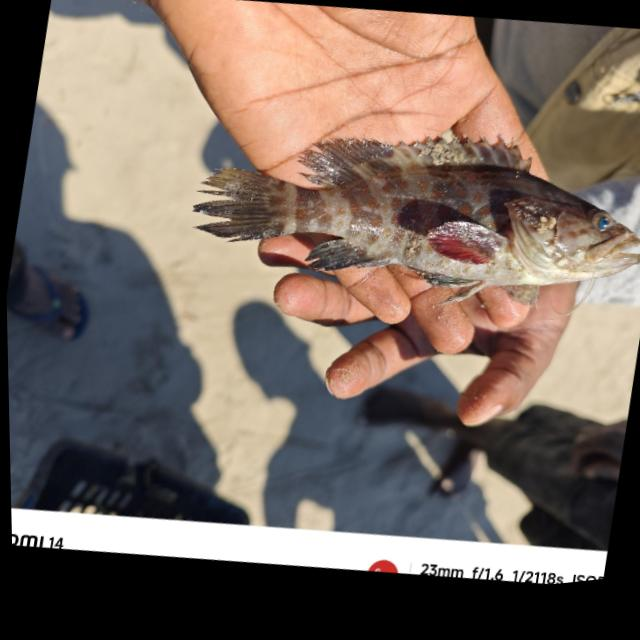Groupers: (186, 71, 640, 347)
